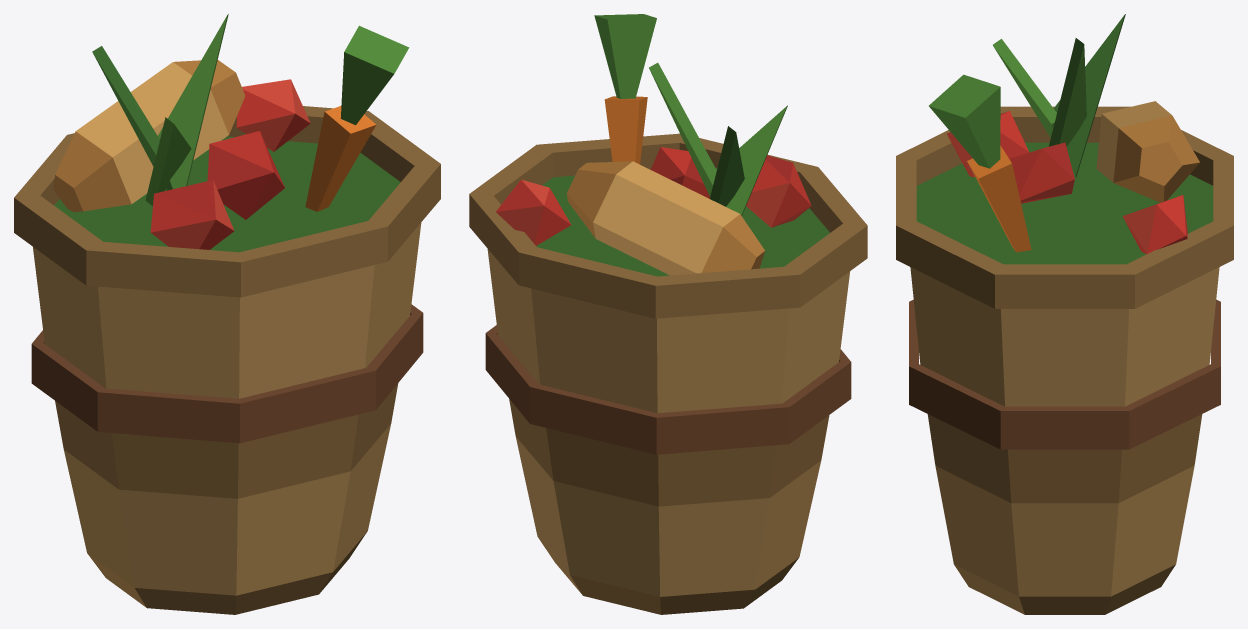
Rendered from basket_back.glb.
The picture shows the model from 3 angles, left to right: view 1: azimuth 30°, elevation 25°; view 2: azimuth 150°, elevation 25°; view 3: azimuth 270°, elevation 25°; orthographic projection. The views are drawn at different scales.
Parts seen in each view (by area): view 1: basket_back; view 2: basket_back; view 3: basket_back.
Boxes of the visible parts, box(x1,y1,x2,y2) form: basket_back: box(14, 14, 440, 614); basket_back: box(469, 14, 867, 614); basket_back: box(896, 14, 1233, 614).
Bounding box in the file's own units: 0.4213 × 0.6222 × 0.3581.
